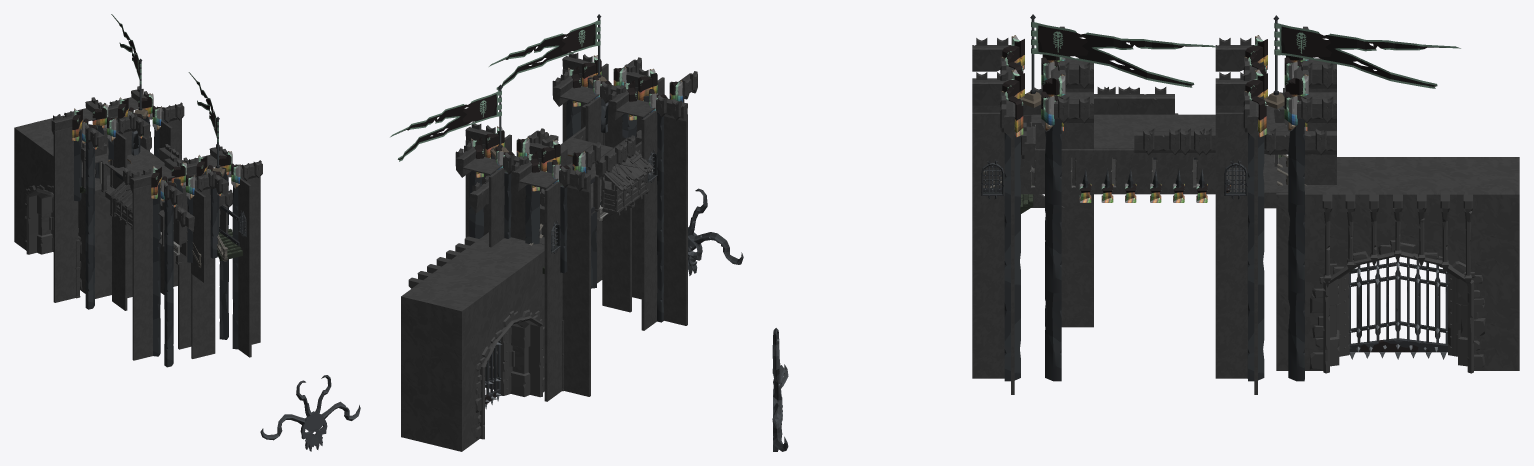
File: isle_gatehouse.gltf
3 views of the same model, side by side, from view 1: azimuth 30°, elevation 25°; view 2: azimuth 150°, elevation 25°; view 3: azimuth 270°, elevation 25° (orthographic). The views are drawn at different scales.
Visible parts, largest first — view 1: isle_gatehouse; view 2: isle_gatehouse; view 3: isle_gatehouse.
Part boxes in pixels (x1=…): isle_gatehouse: x1=14, y1=14, x2=360, y2=451; isle_gatehouse: x1=390, y1=14, x2=743, y2=451; isle_gatehouse: x1=772, y1=14, x2=1519, y2=451.
Size of what is drawn, in the model's own units: 15.47 by 28.99 by 46.08.
2 materials, 2 textured.
